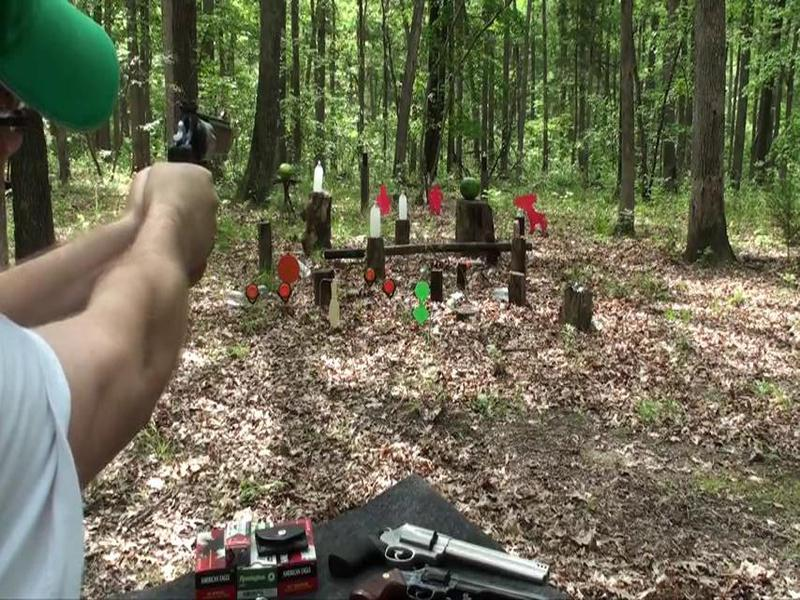Revolver: (165, 93, 237, 218)
